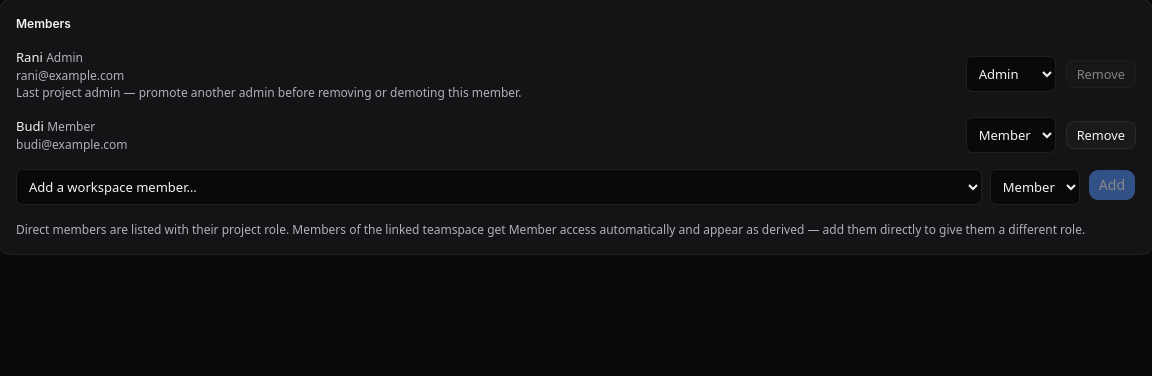
Members tab (C92T1) › add member posts user_id + role and refreshes the roster
expect the text "Rani" is shown: met, box [16, 48, 43, 66]
Select "Dedi (dedi@example.com)" in the dropdown named "Add member" at (499, 187), box [16, 169, 982, 205]
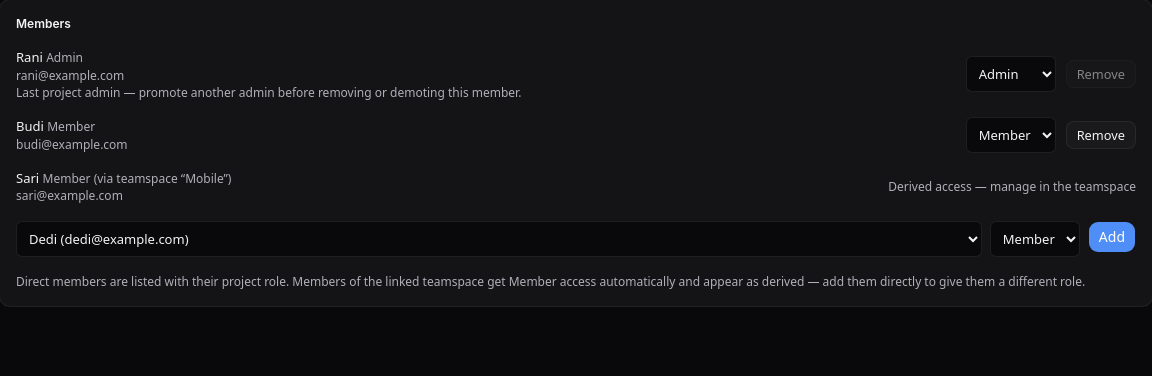
Select "Guest" in the dropdown named "Role for new member" at (1035, 238), box [990, 220, 1080, 256]
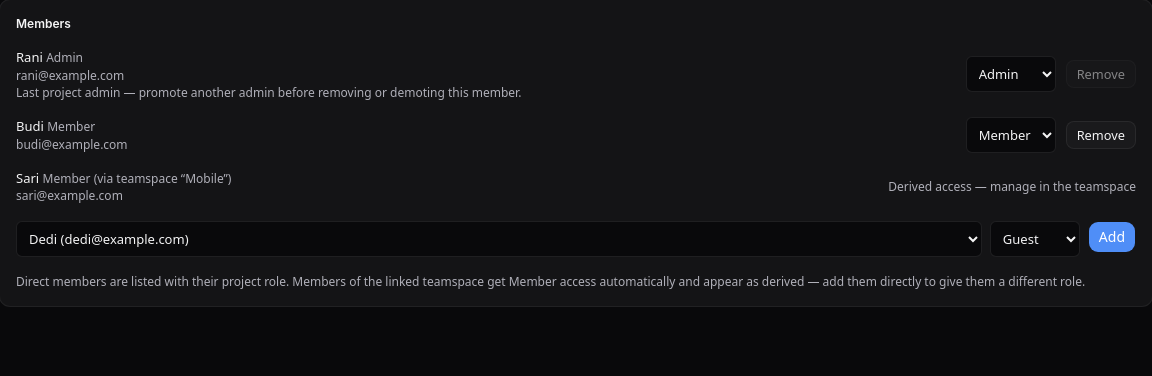
Click the button "Add" at (1112, 236), box [1088, 220, 1136, 252]
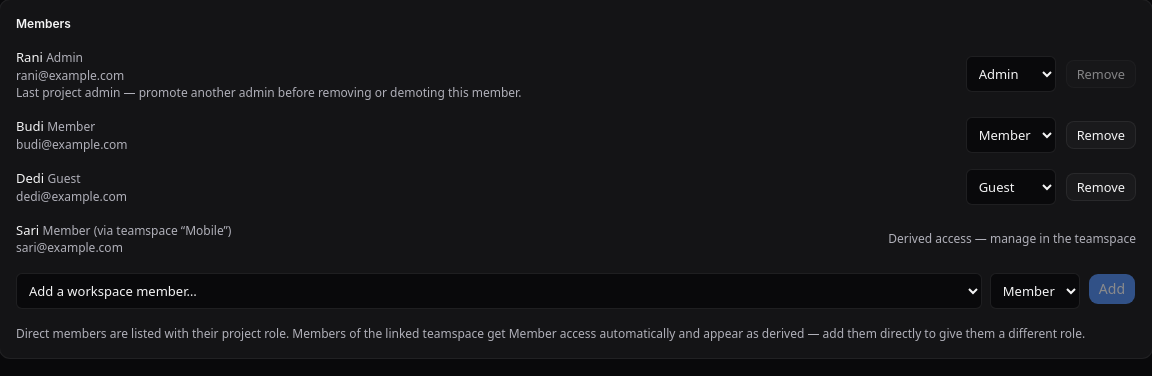
expect the text "Dedi" is shown: met, box [16, 169, 44, 187]
